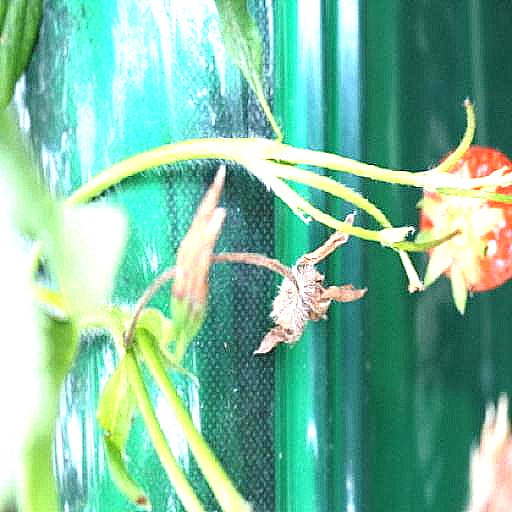Gray Mold: (252, 211, 368, 356)
